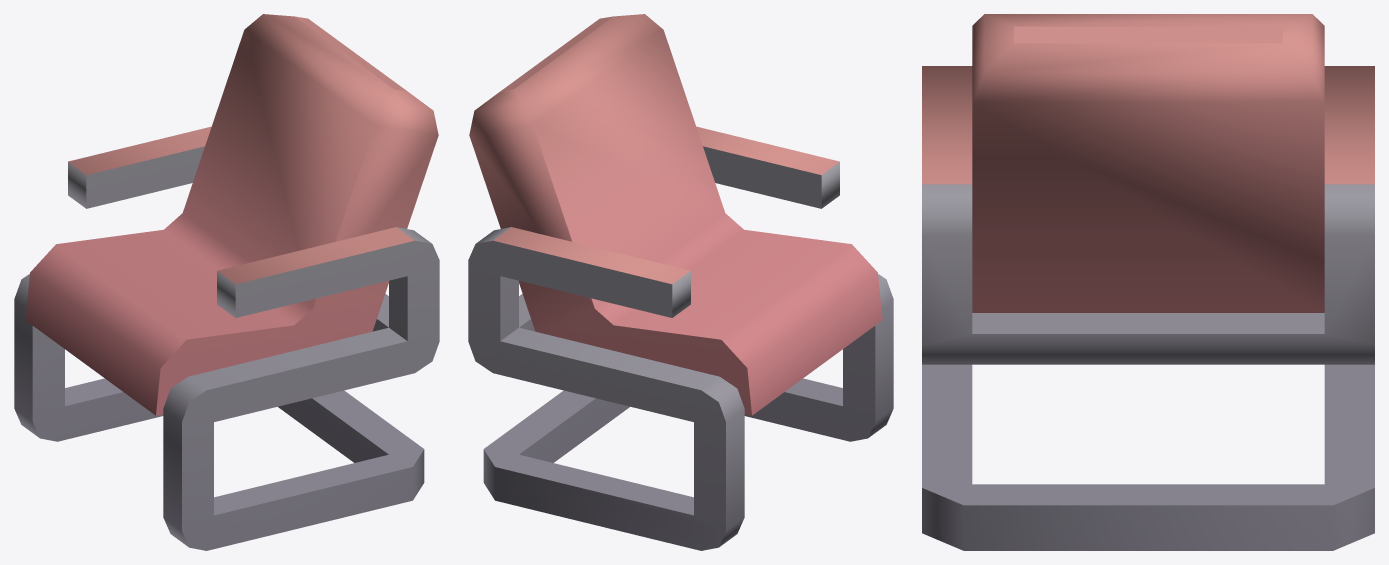
File: comfy-chair-metal.glb
3 renders of one model, left to right at view 1: azimuth 30°, elevation 25°; view 2: azimuth 150°, elevation 25°; view 3: azimuth 270°, elevation 25°, orthographic. The views are drawn at different scales.
Visible parts, largest first — view 1: comfy-chair-metal; view 2: comfy-chair-metal; view 3: comfy-chair-metal.
Part boxes in pixels (left/top/right/bottom): comfy-chair-metal: left=14, top=14, right=439, bottom=550; comfy-chair-metal: left=468, top=14, right=893, bottom=550; comfy-chair-metal: left=922, top=14, right=1374, bottom=550.
Size of the model in its own units: 0.5267 by 0.6811 by 0.5411.
